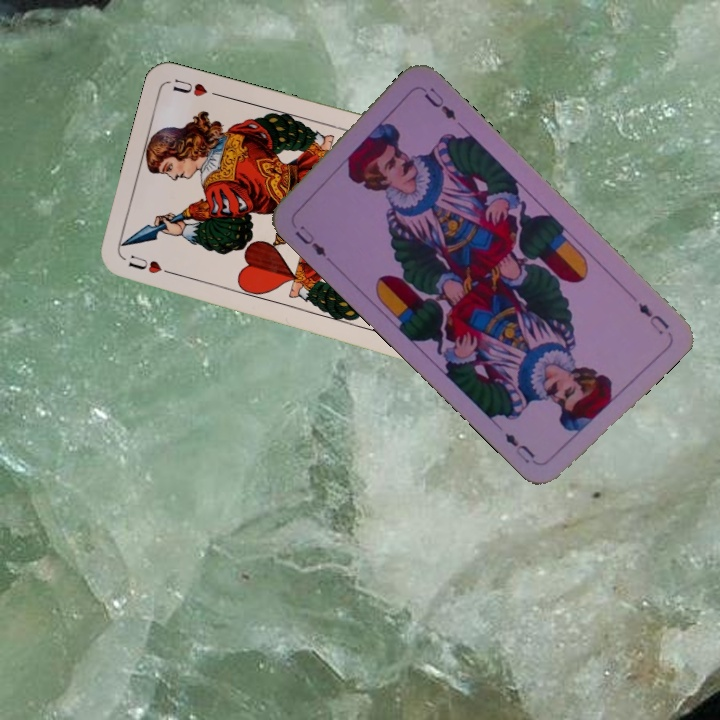EU: (291, 221, 333, 265), (634, 298, 672, 338)
HU: (124, 251, 180, 279)
